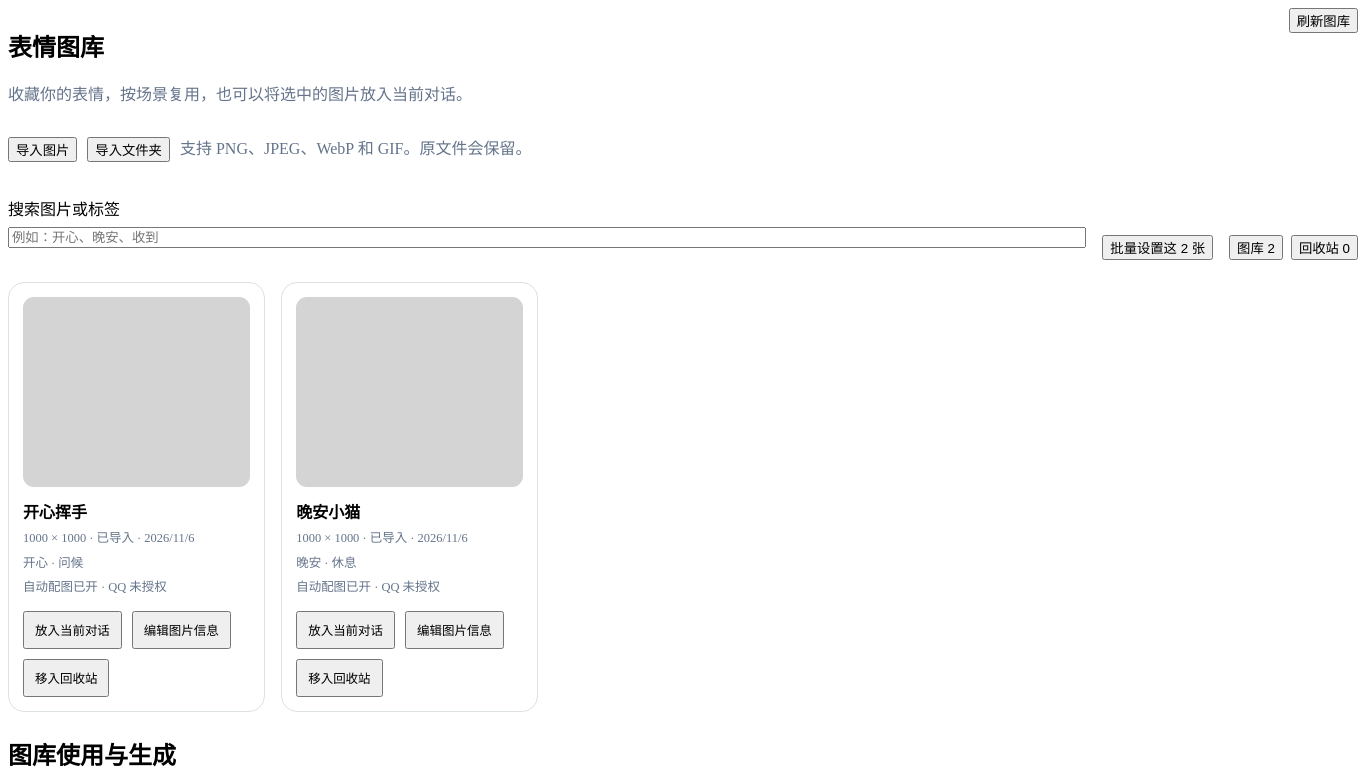
Test: media library page › searches titles and scene tags without generating or attaching pictures
Expected: the element "开心挥手" is shown, x1=8 y1=282 x2=265 y2=712
Type "休息" into the search field labelled "搜索图片或标签".
click(547, 237); type("休息")  # box x1=8 y1=227 x2=1086 y2=248
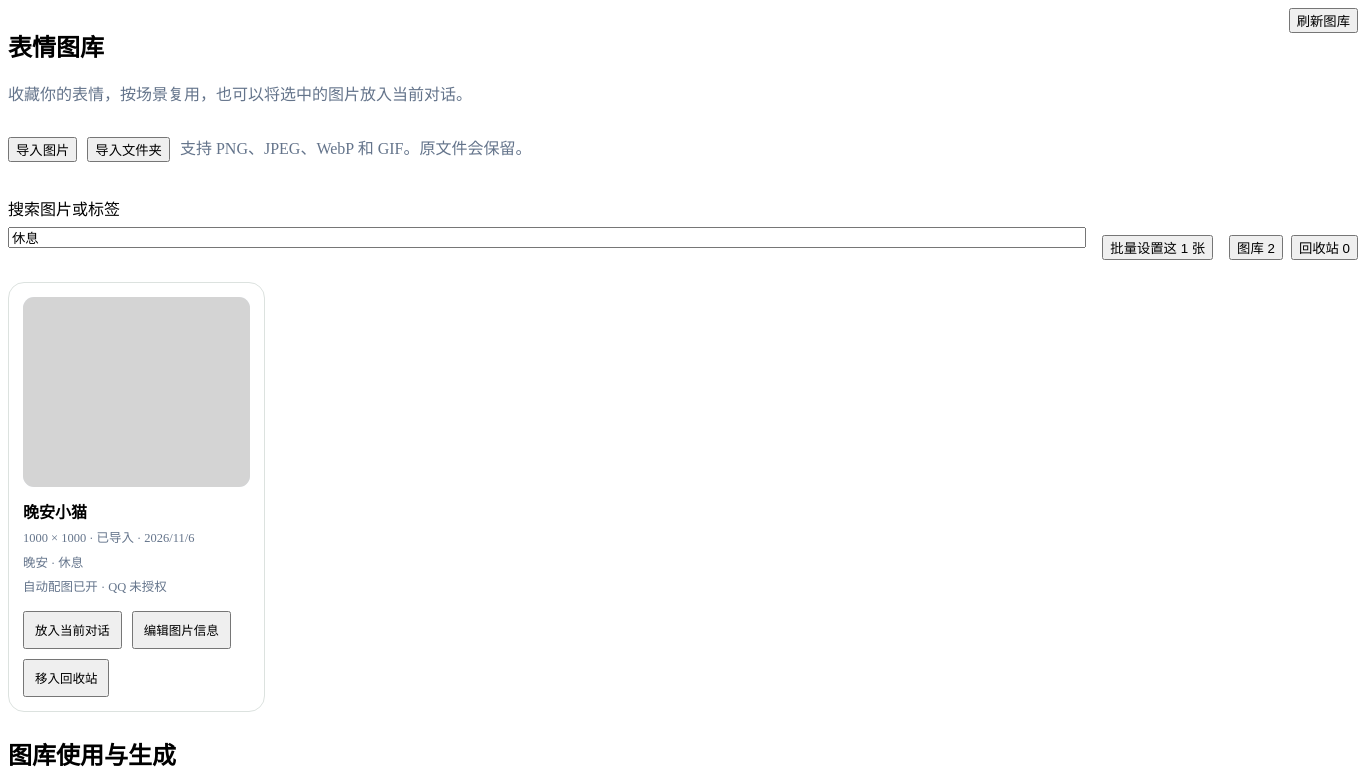
Expected: the element "晚安小猫" is shown, x1=8 y1=282 x2=265 y2=712
Replace the text in the search field labelled "搜索图片或标签" with "开心挥手" at (547, 237), box x1=8 y1=227 x2=1086 y2=248
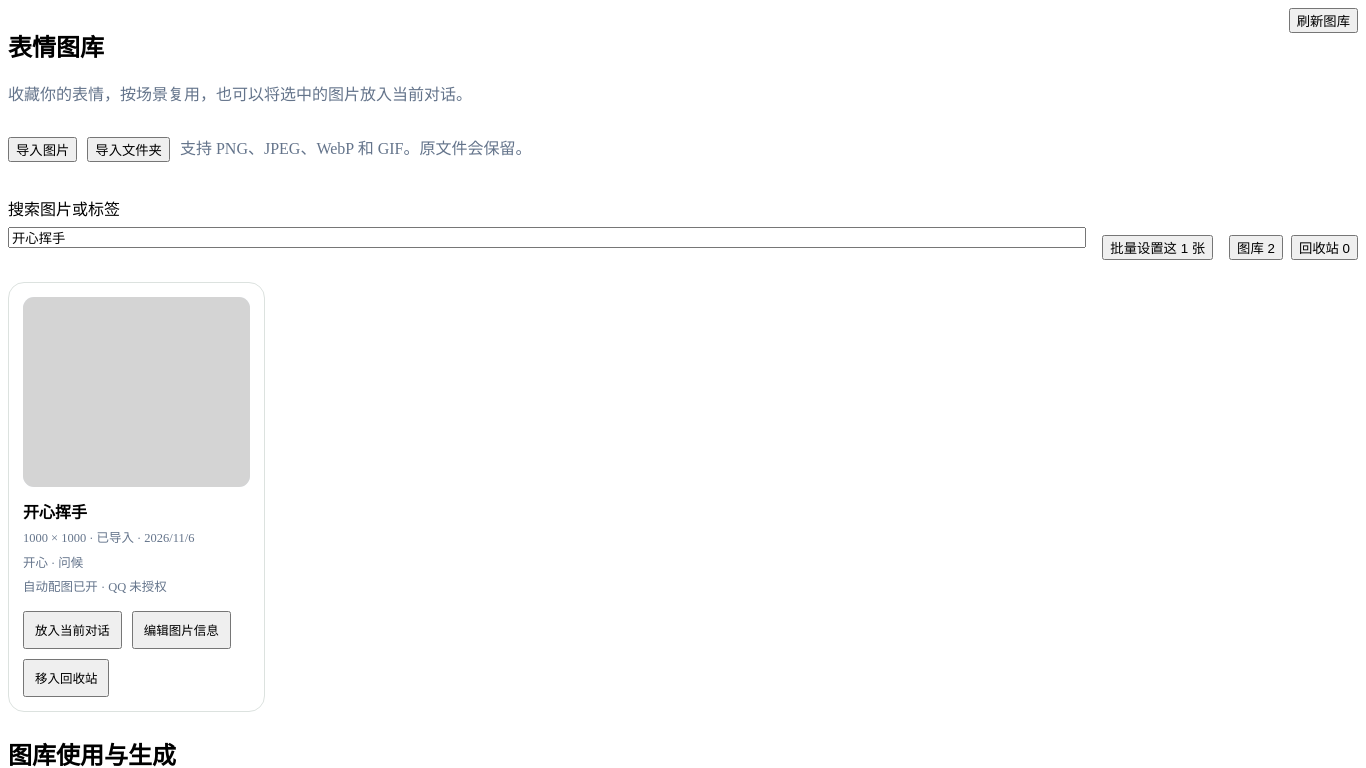
Result: the element "开心挥手" is shown at x1=8 y1=282 x2=265 y2=712
